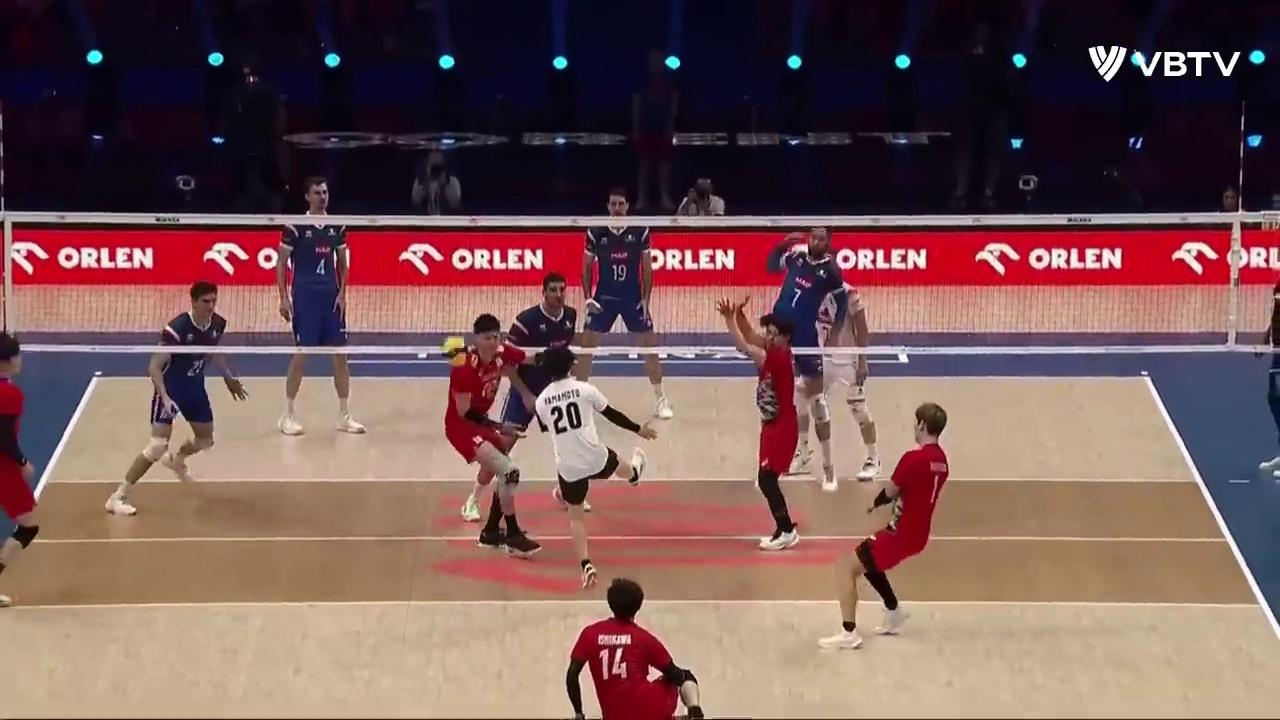ball: (441, 336, 468, 366)
